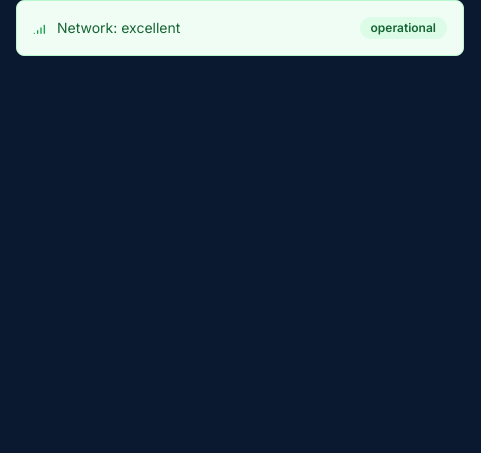
Test: OfflineModeIndicator › Online State › should expand to show detailed view when clicked
Click to expand
Click the text "Network: excellent" at (119, 28), box [57,18,180,38]
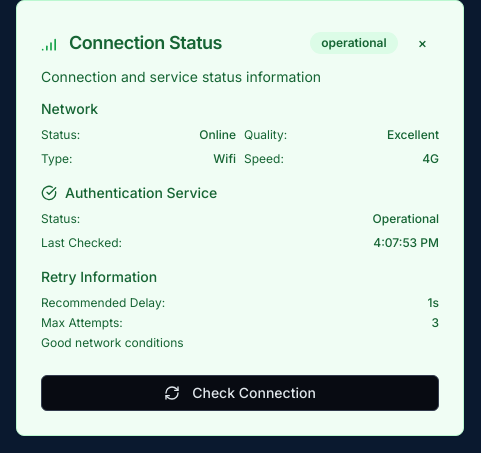
Expected: the text "Connection Status" is shown, [69,29,222,57]
